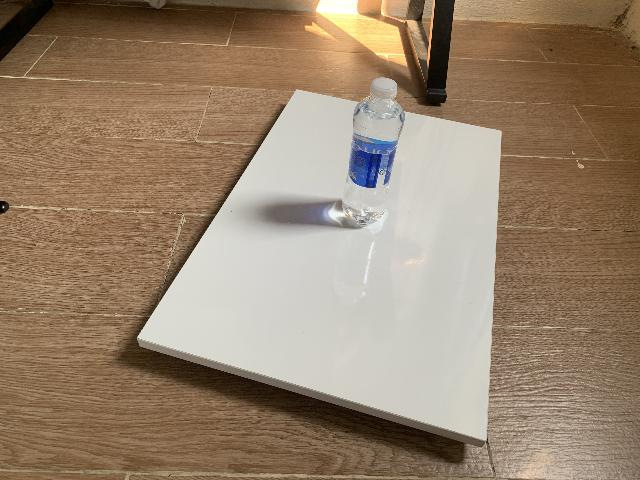aquafina: (342, 77, 405, 225)
